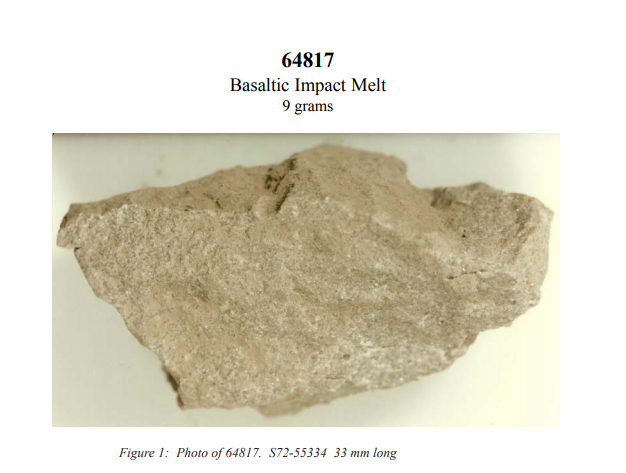Basalt: (68, 171, 549, 405), (206, 219, 479, 349)
